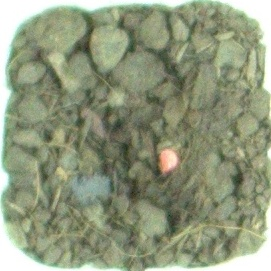chilli seed: (157, 147, 180, 177)
